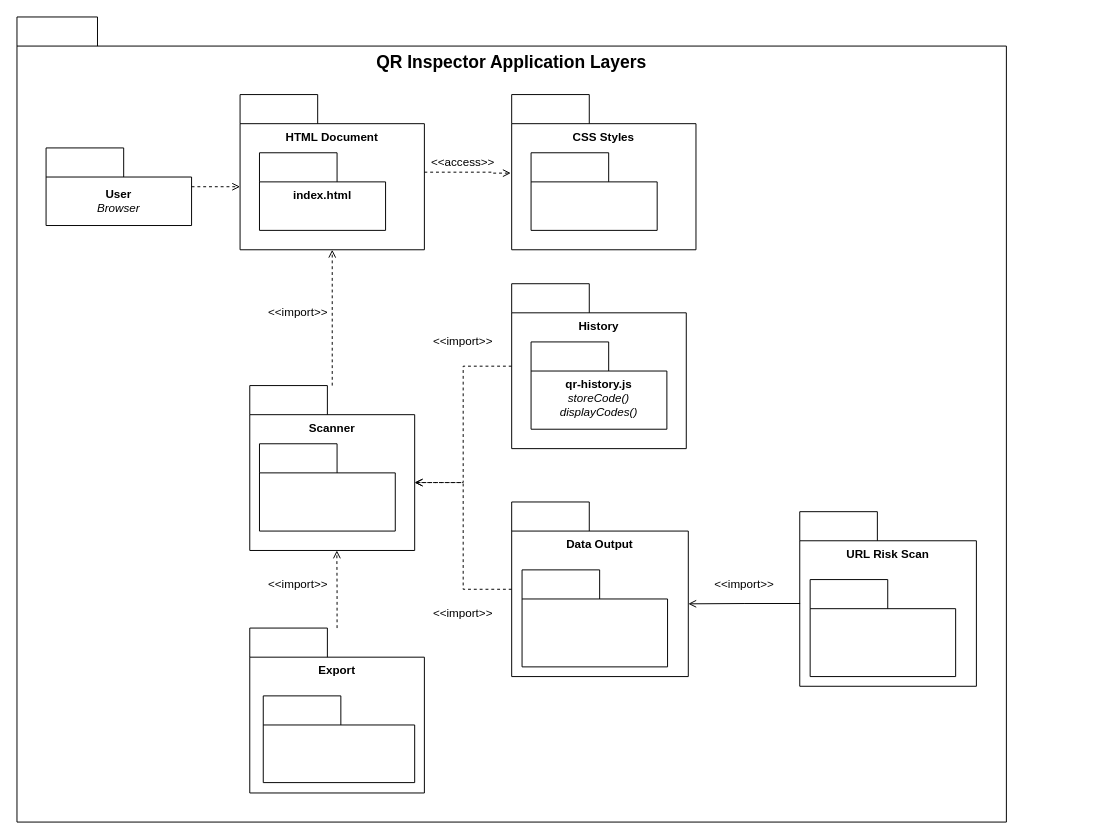
Image size: 1108x839. Some labels were removed from this diagram. Each missing label, with the centre of its shape:
qr-export.js exportButton listener restartButton listener: point (338, 739)
qr-output.js outputData() noData(): point (594, 618)
qr-scanner.js start() restart(): point (327, 487)
styles.css: point (593, 191)
url-scan.js scanURL(): point (882, 628)
